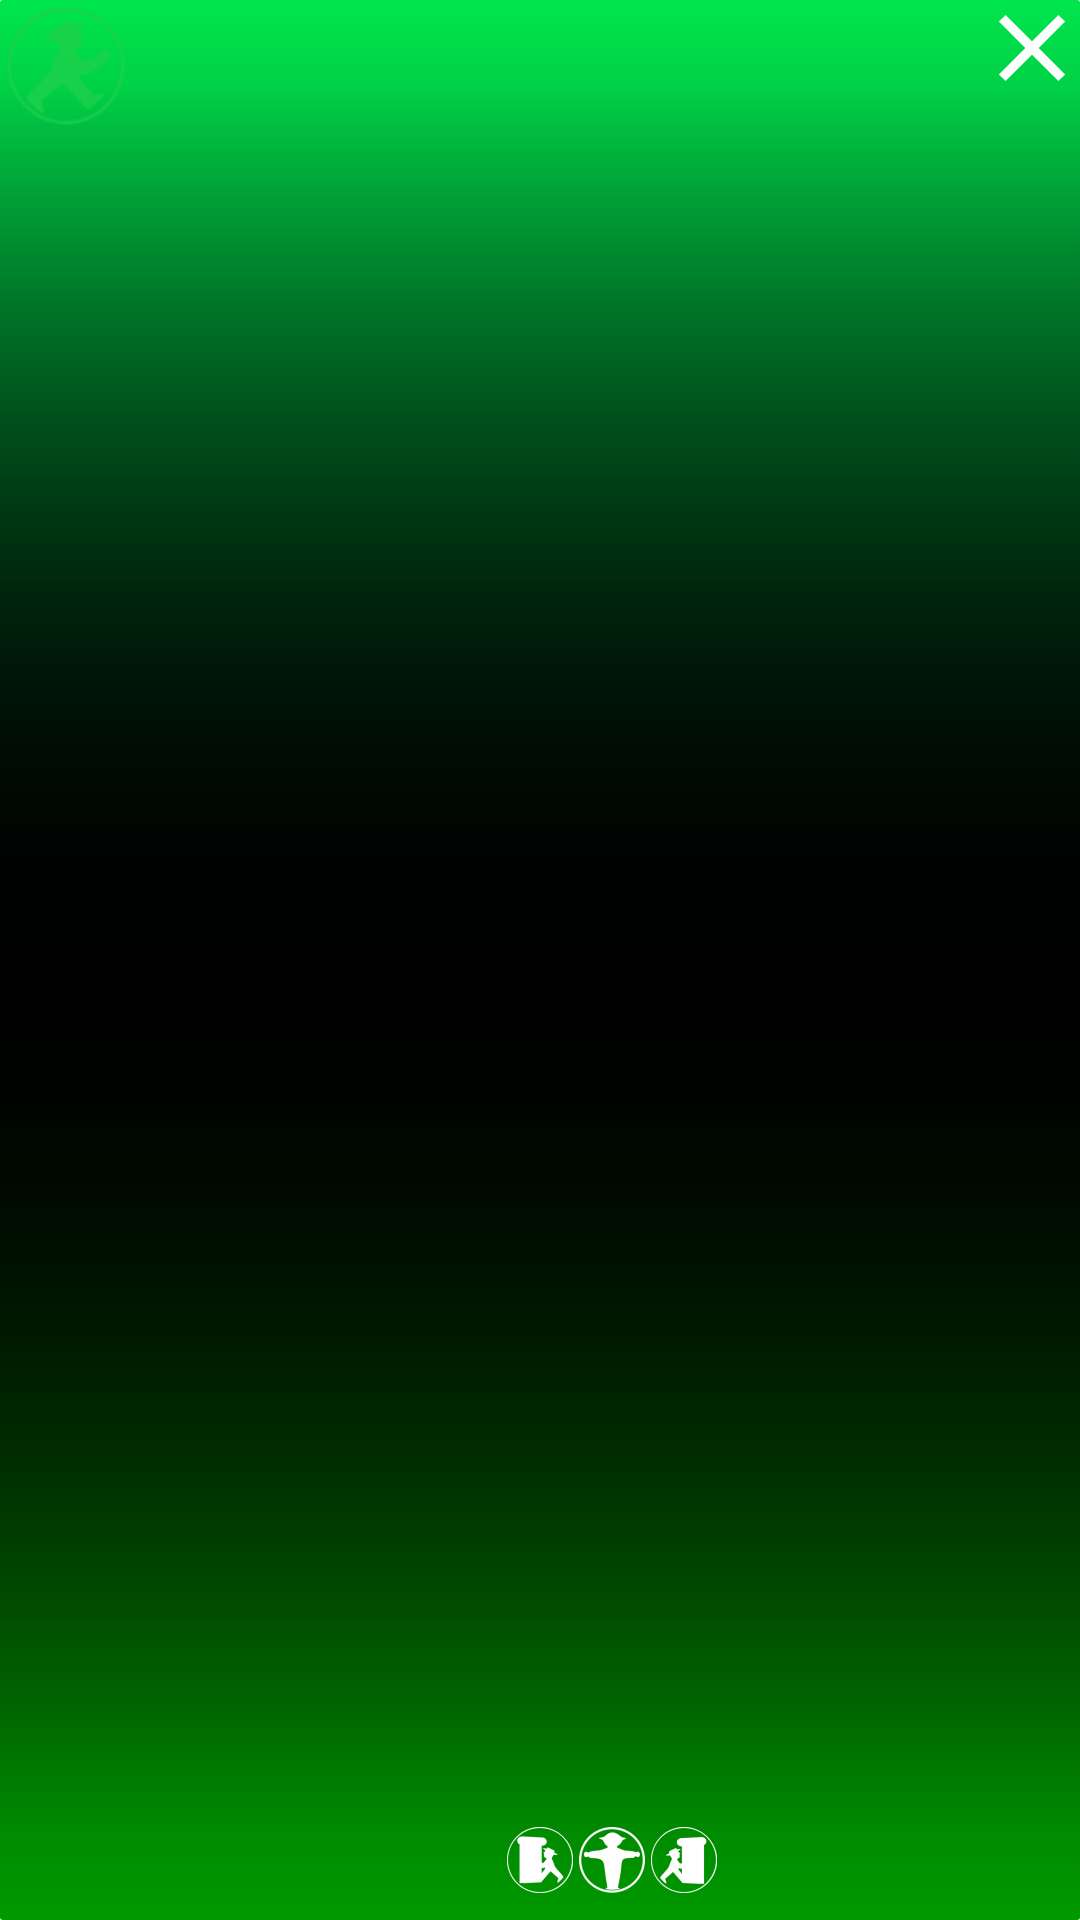

Named icons in this screenshot (1080 x 1920) and their bounding boxes, [left=x1, top=y1, right=x2, bottom=y2]:
notif remove: [left=999, top=15, right=1065, bottom=81]
